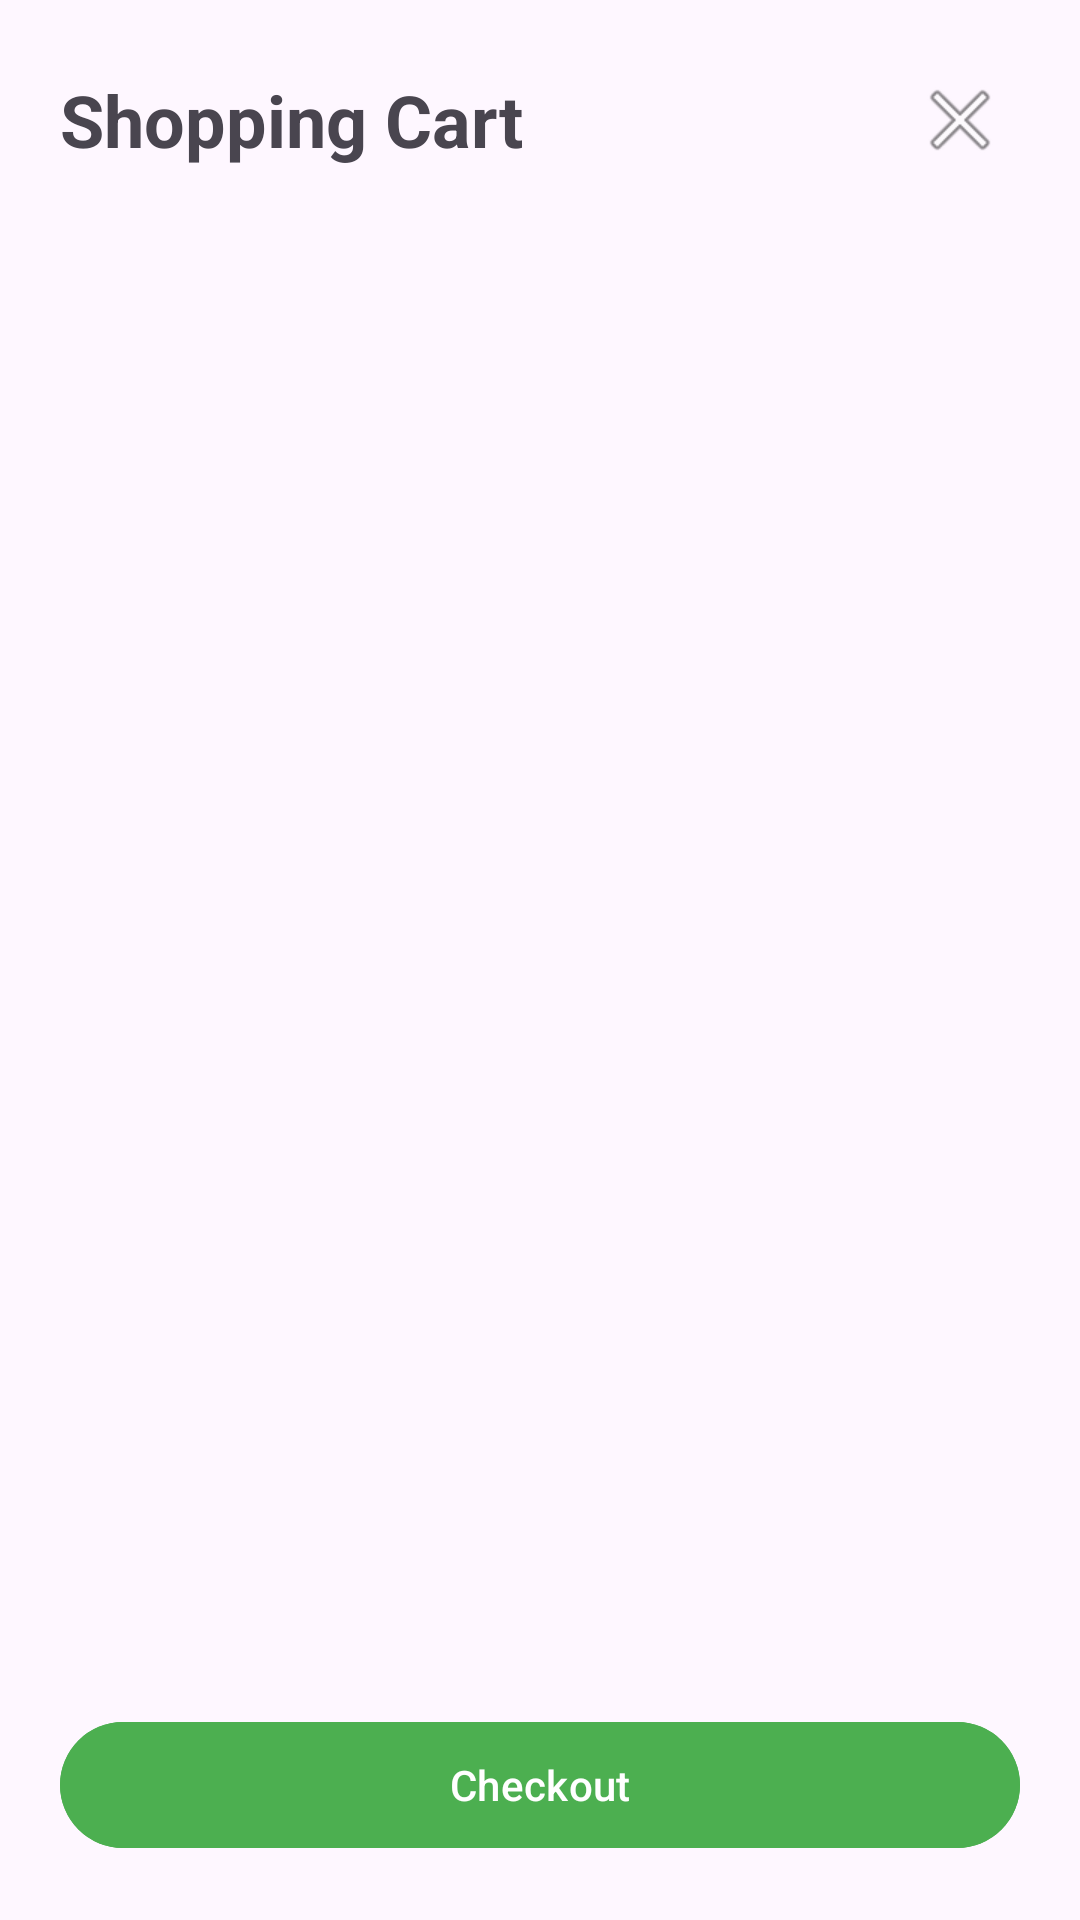

Point at icon controls on the screen. Image size 1080x1920, points as point (x, y).
Close cart: point (960, 120)
